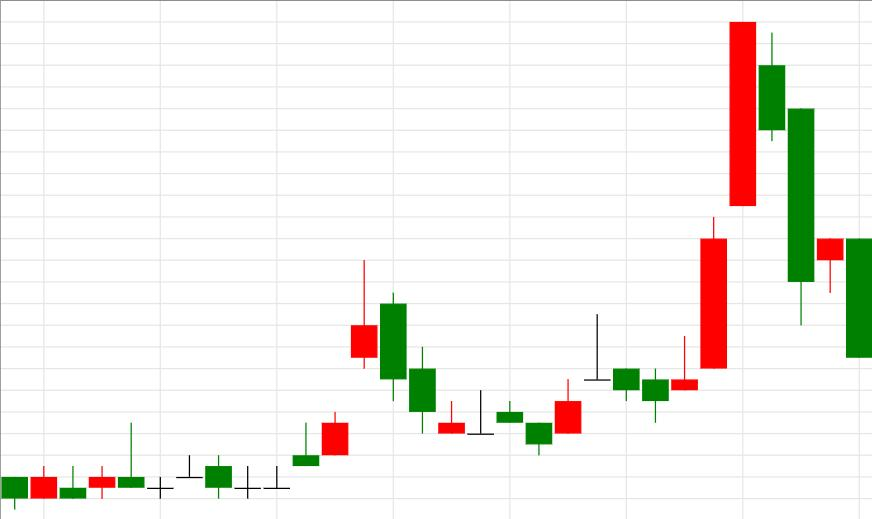shooting_star_fall: (206, 259, 378, 498)
